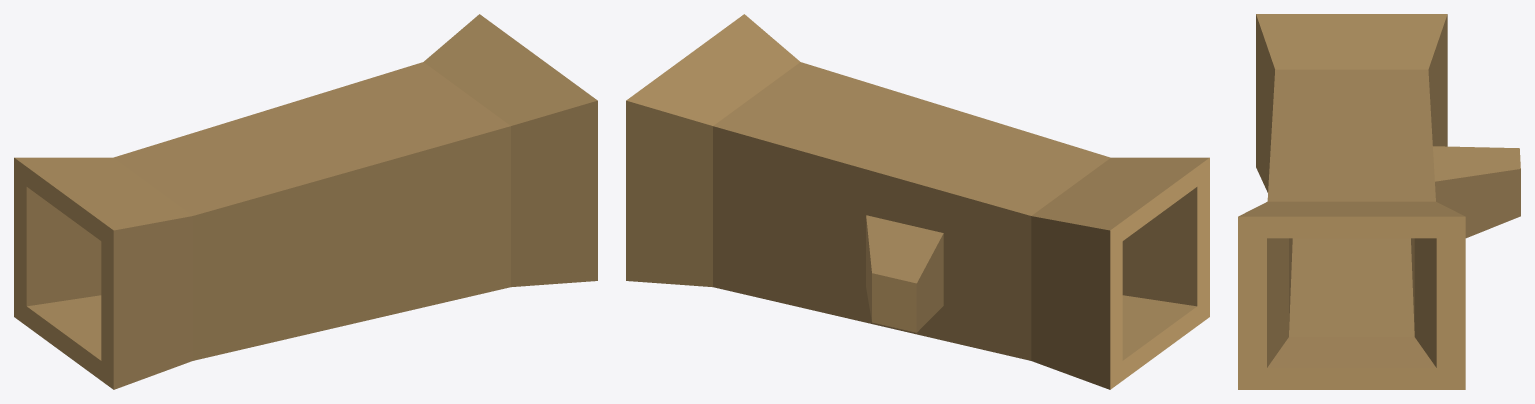
File: Fallen_Trunk_01.fbx
3 renders of one model, left to right at view 1: azimuth 30°, elevation 25°; view 2: azimuth 150°, elevation 25°; view 3: azimuth 270°, elevation 25°, orthographic. The views are drawn at different scales.
Parts seen in each view (by area): view 1: Mesh1_Fallen_Trunk Model; view 2: Mesh1_Fallen_Trunk Model; view 3: Mesh1_Fallen_Trunk Model.
Part boxes in pixels (box(x1,y1,x2,y2)): Mesh1_Fallen_Trunk Model: box(14, 14, 597, 389); Mesh1_Fallen_Trunk Model: box(626, 14, 1209, 389); Mesh1_Fallen_Trunk Model: box(1238, 14, 1520, 389).
Bounding box in the file's own units: 2.19 × 0.7952 × 1.18.
